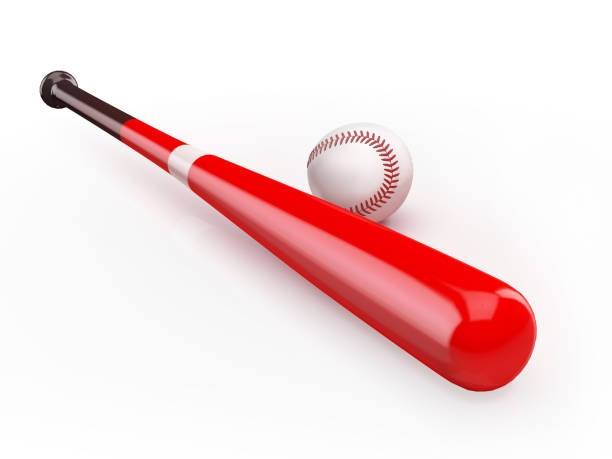bita: (42, 73, 539, 398)
